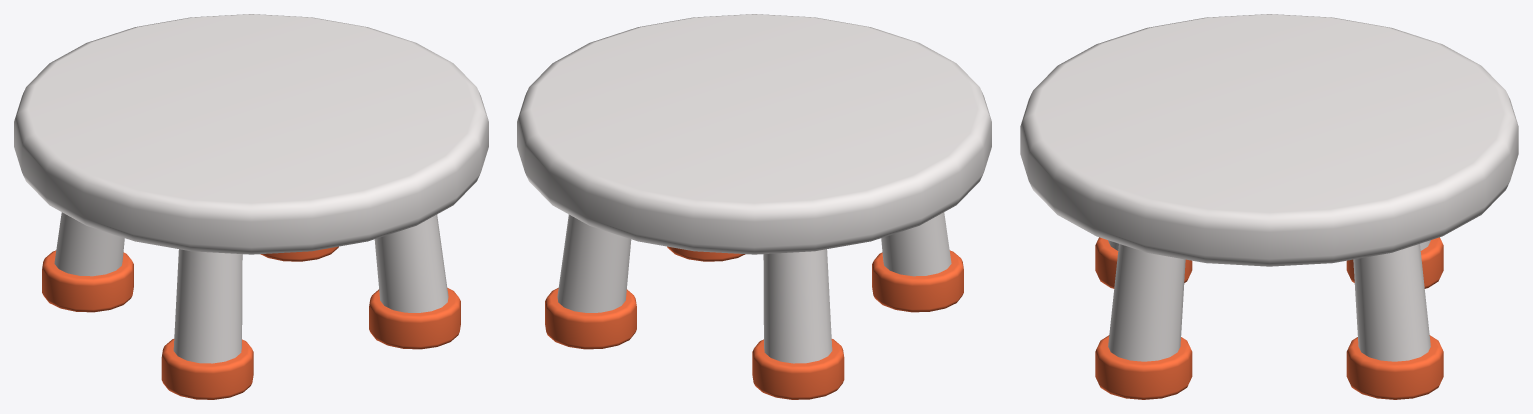
File: Town_3_Table_1.glb
3 renders of one model, left to right at view 1: azimuth 30°, elevation 25°; view 2: azimuth 150°, elevation 25°; view 3: azimuth 270°, elevation 25°, orthographic. The views are drawn at different scales.
Visible parts, largest first — view 1: Town_3_Table_1; view 2: Town_3_Table_1; view 3: Town_3_Table_1.
Boxes of the visible parts, left/top/right/bottom form: Town_3_Table_1: left=14, top=14, right=488, bottom=399; Town_3_Table_1: left=517, top=14, right=991, bottom=399; Town_3_Table_1: left=1020, top=14, right=1518, bottom=399.
Size of the model in its own units: 1.74 by 0.8302 by 1.74.
1 material, 1 textured.
